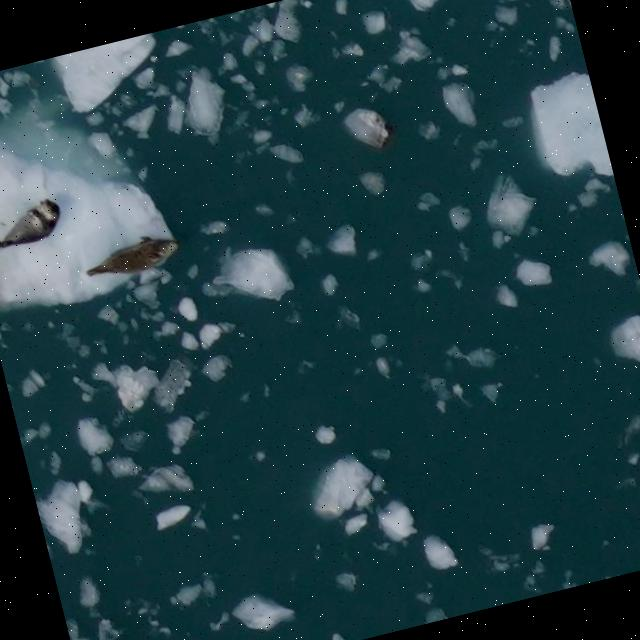seal: (84, 235, 179, 276), (0, 197, 62, 250)
